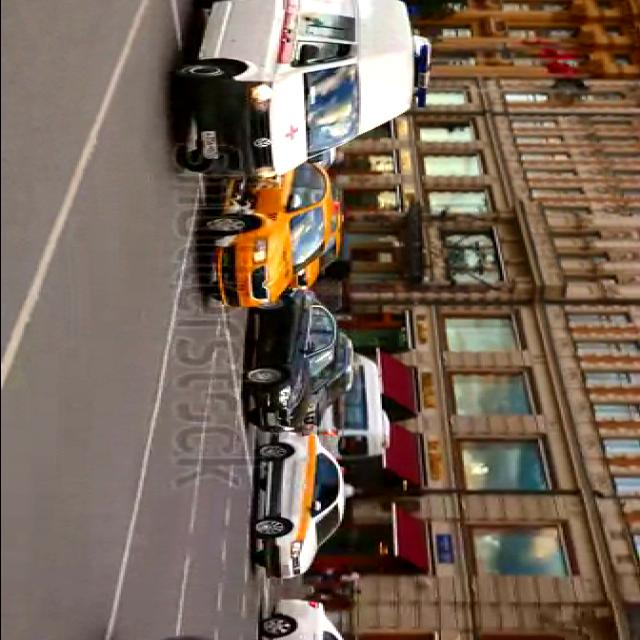ambulance: (164, 1, 432, 179)
